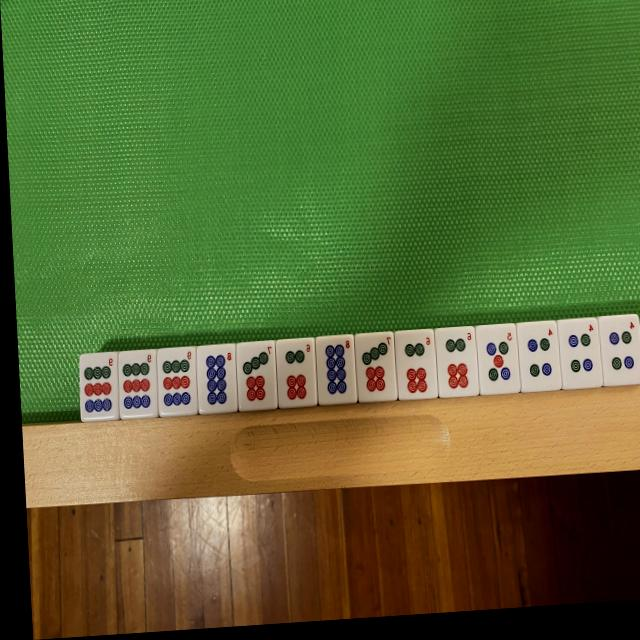t4: (516, 321, 562, 393), (557, 318, 602, 389), (601, 314, 640, 385)
t5: (475, 324, 520, 395)
t6: (435, 327, 478, 398), (395, 329, 437, 401), (276, 338, 317, 406)
t7: (355, 332, 398, 402), (237, 340, 278, 410)
t8: (197, 344, 238, 413), (316, 335, 357, 404)
t9: (118, 350, 159, 418), (158, 348, 198, 416), (80, 353, 118, 421)
